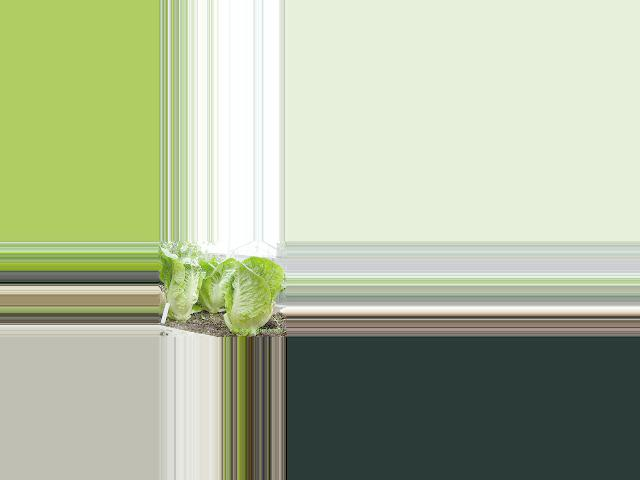lettuce: (163, 249, 206, 329)
